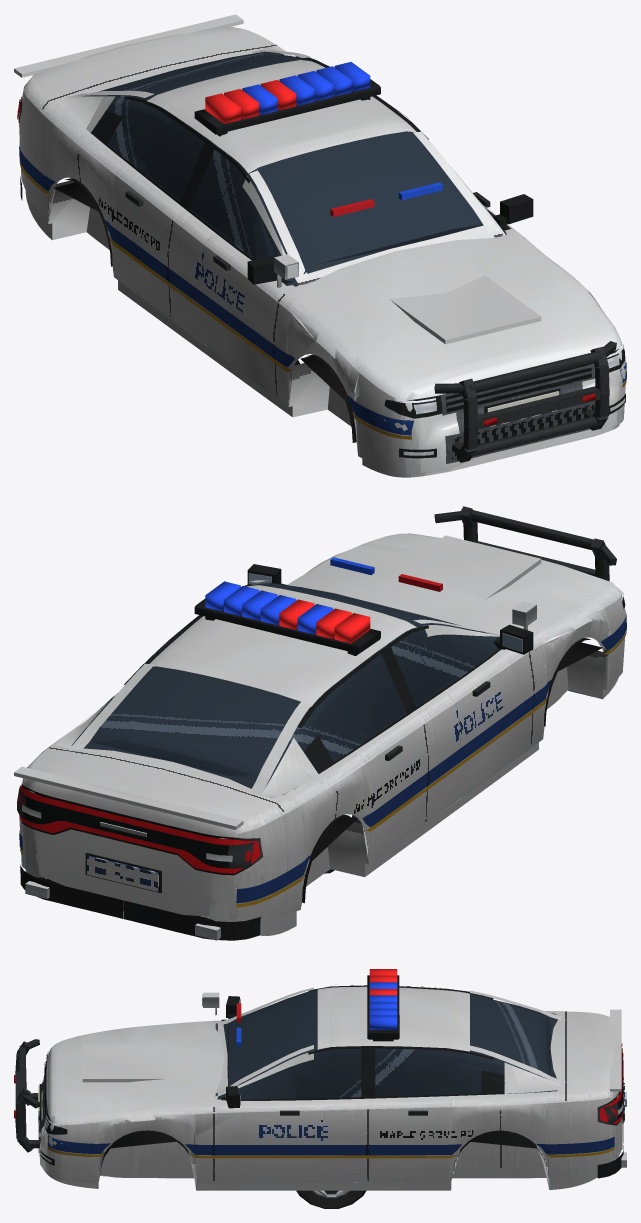
The model's file is chaserpd18.glb.
3 renders of one model, top to bottom at view 1: azimuth 30°, elevation 25°; view 2: azimuth 150°, elevation 25°; view 3: azimuth 270°, elevation 25°, orthographic. The views are drawn at different scales.
Visible parts, largest first — view 1: Paint, Body, Paint_far, Body_far, BarB, BarR; view 2: Paint, Body, Paint_far, Body_far, BarB, BarR; view 3: Paint, Body, Paint_far, Body_far, BarB, Wheel_far, BarR, Wheel.
Boxes of the visible parts, left/top/right/bottom form: Paint: left=14, top=20, right=626, bottom=477; Body: left=17, top=51, right=626, bottom=463; Paint_far: left=14, top=14, right=595, bottom=453; Body_far: left=19, top=52, right=622, bottom=461; BarB: left=242, top=62, right=370, bottom=114; BarR: left=205, top=80, right=296, bottom=123; Paint: left=14, top=533, right=625, bottom=935; Body: left=17, top=506, right=626, bottom=940; Paint_far: left=14, top=535, right=610, bottom=916; Body_far: left=24, top=509, right=625, bottom=939; BarB: left=205, top=581, right=333, bottom=634; BarR: left=279, top=599, right=370, bottom=643; Paint: left=40, top=986, right=622, bottom=1190; Body: left=14, top=975, right=626, bottom=1178; Paint_far: left=42, top=1007, right=622, bottom=1190; Body_far: left=15, top=985, right=626, bottom=1160; BarB: left=369, top=982, right=397, bottom=1029; Wheel_far: left=309, top=1190, right=361, bottom=1207; BarR: left=369, top=969, right=397, bottom=995; Wheel: left=296, top=1190, right=366, bottom=1208.
Bounding box in the file's own units: 2.04 × 2 × 5.3.
Materials: 5 (3 with a texture image).
